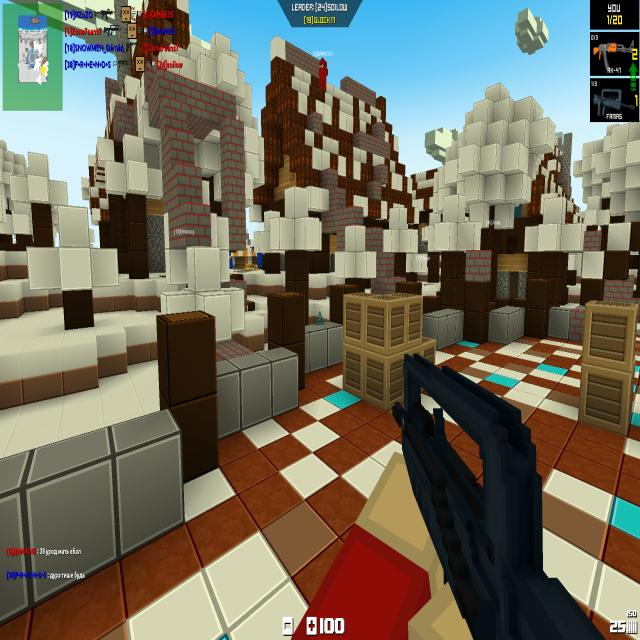enemy: (252, 246, 263, 269), (229, 252, 233, 270)
